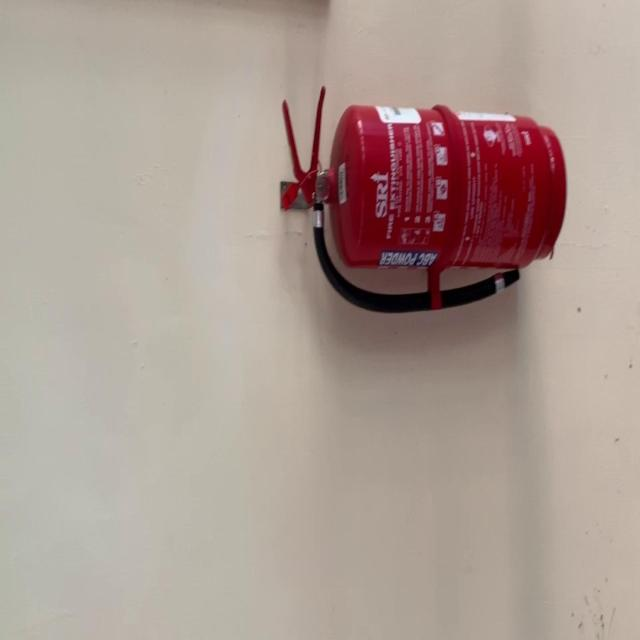fire_extinguisher: (278, 81, 570, 315)
